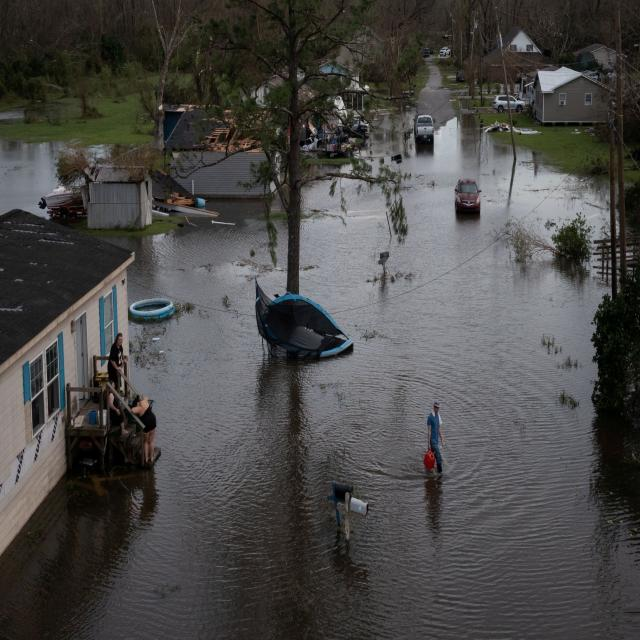Hurricane: (136, 2, 609, 606), (136, 205, 594, 599)
